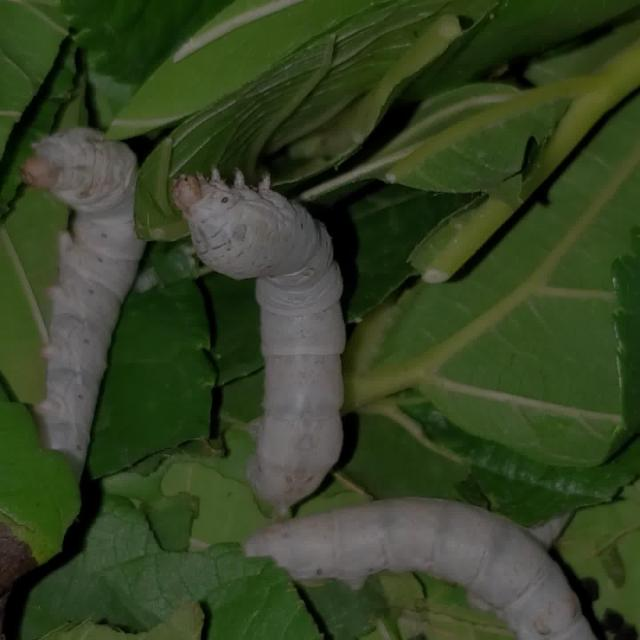Healthy: (164, 161, 348, 509)
